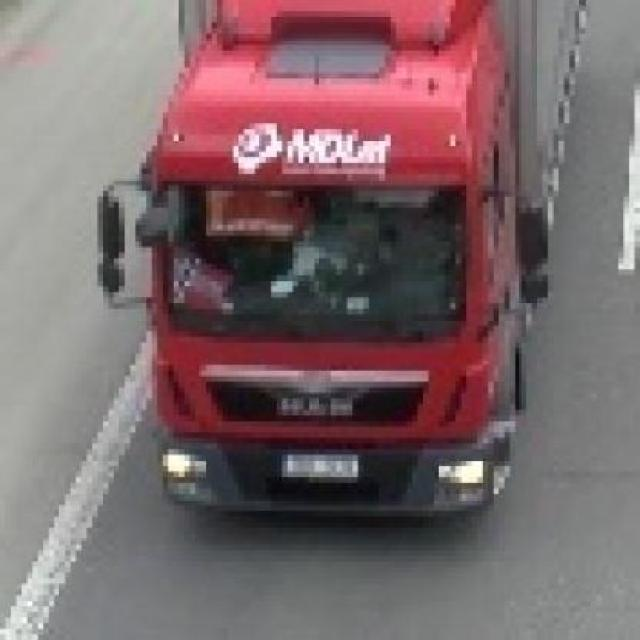truck: (104, 1, 604, 529)
